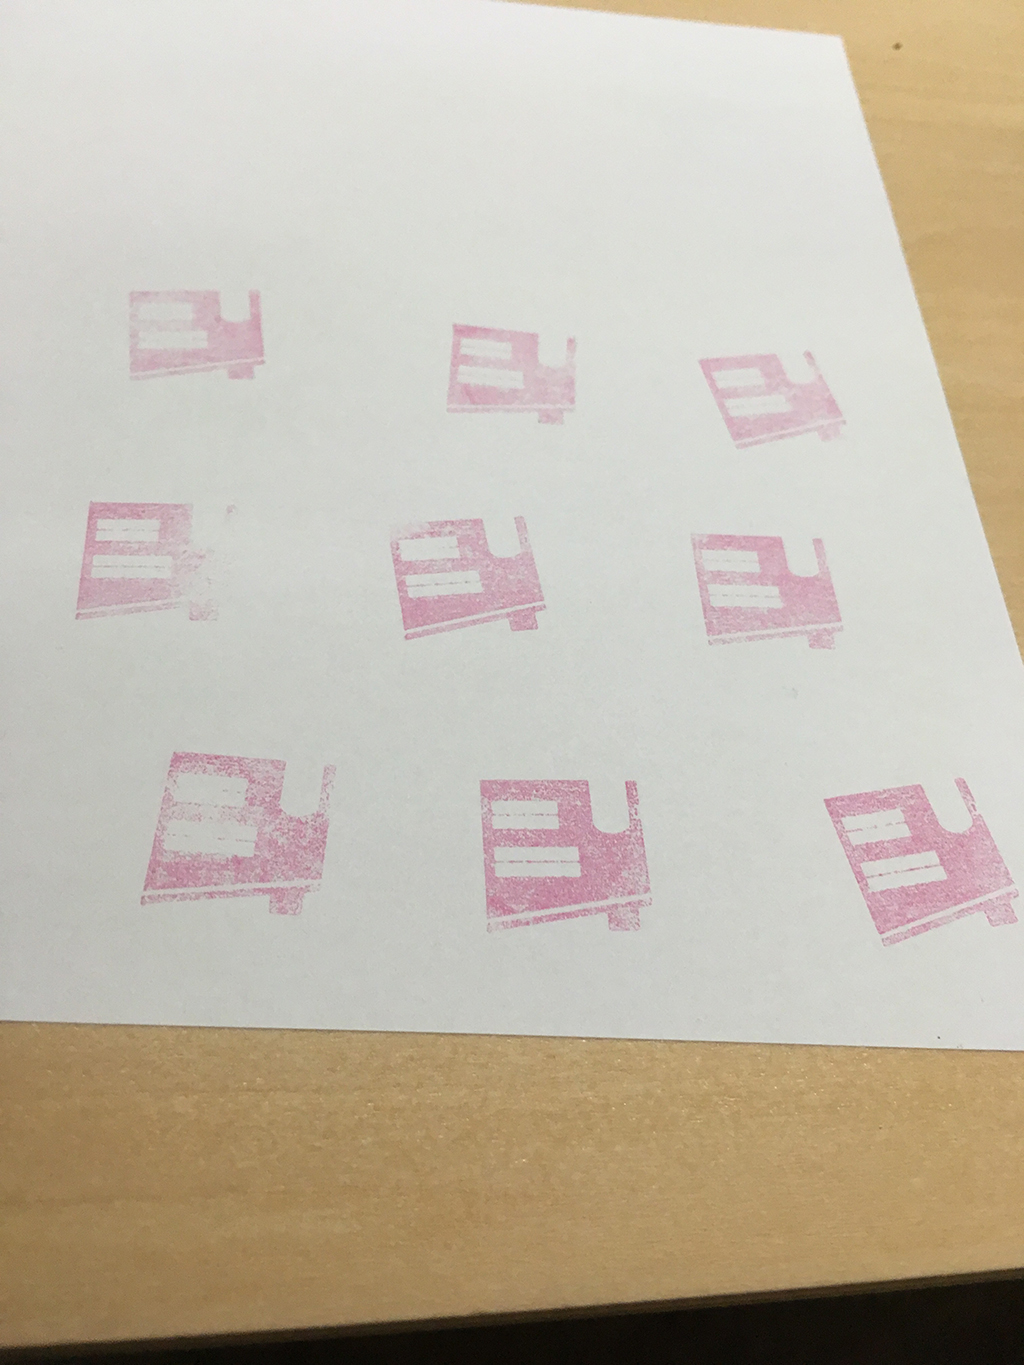house: (124, 738, 345, 932), (466, 760, 671, 955), (808, 765, 1024, 949), (55, 474, 252, 636), (378, 498, 566, 665), (679, 516, 862, 671), (677, 327, 858, 463), (113, 269, 286, 406), (436, 312, 594, 447)
